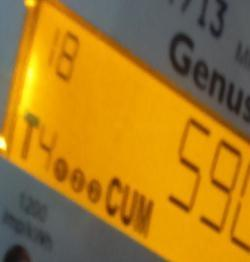1: (228, 157, 250, 254)
6: (165, 115, 214, 215)
:: (196, 137, 250, 231)
